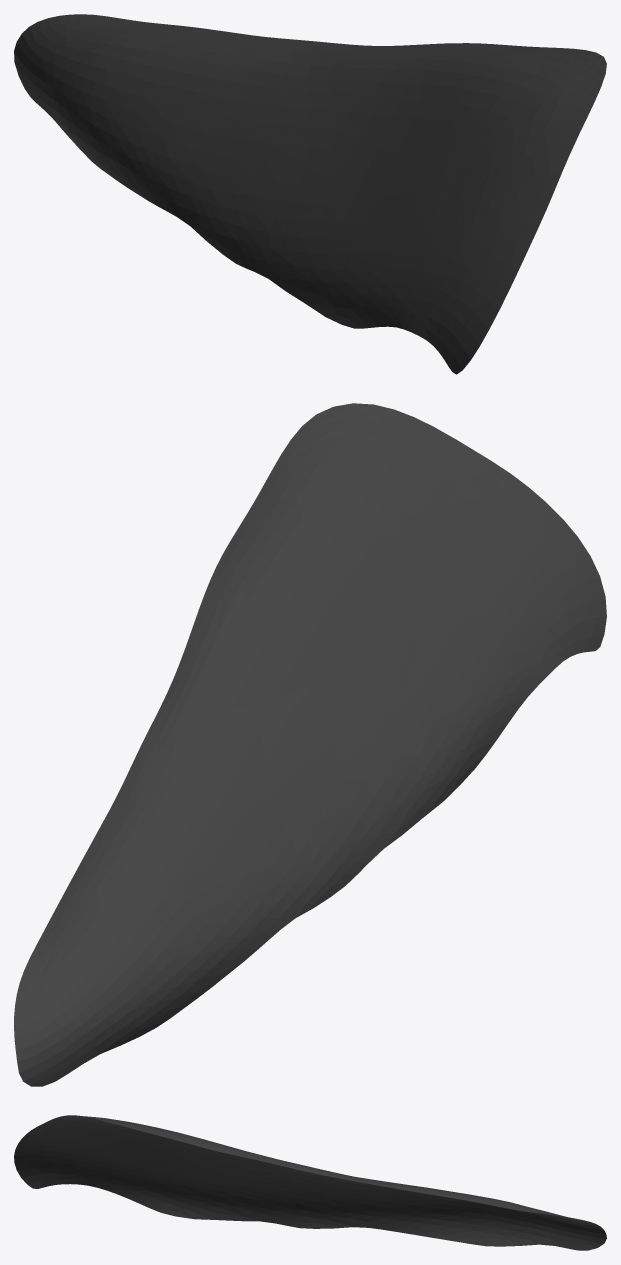
The model's file is Scapula_fossa_infraspinous.glb.
3 views of the same model, one above another, from view 1: azimuth 30°, elevation 25°; view 2: azimuth 150°, elevation 25°; view 3: azimuth 270°, elevation 25° (orthographic). The views are drawn at different scales.
Parts seen in each view (by area): view 1: Scapula_fossa_infraspinous; view 2: Scapula_fossa_infraspinous; view 3: Scapula_fossa_infraspinous.
Part boxes in pixels (x1,y1,x2,y2): Scapula_fossa_infraspinous: (14,14,606,374); Scapula_fossa_infraspinous: (14,403,606,1086); Scapula_fossa_infraspinous: (14,1115,606,1250).
Bounding box in the file's own units: 0.4049 × 0.555 × 1.7.
1 material, 1 textured.
